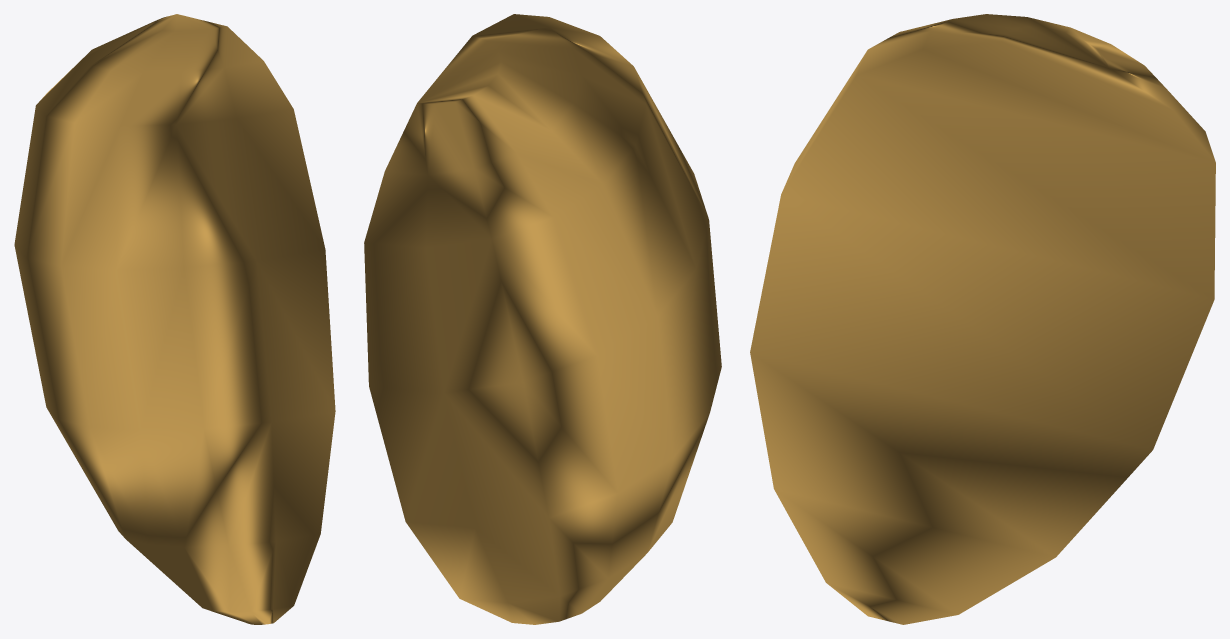
Rendered from hand.dae.
The picture shows the model from 3 angles, left to right: view 1: azimuth 30°, elevation 25°; view 2: azimuth 150°, elevation 25°; view 3: azimuth 270°, elevation 25°; orthographic projection. The views are drawn at different scales.
Visible parts, largest first — view 1: Node_000001D54C2432A0; view 2: Node_000001D54C2432A0; view 3: Node_000001D54C2432A0.
Boxes of the visible parts, x1,y1,x2,y2 form: Node_000001D54C2432A0: [14, 14, 335, 624]; Node_000001D54C2432A0: [364, 14, 721, 624]; Node_000001D54C2432A0: [750, 14, 1215, 624].
Size of the model in its own units: 0.0364 by 0.1044 by 0.0745.
